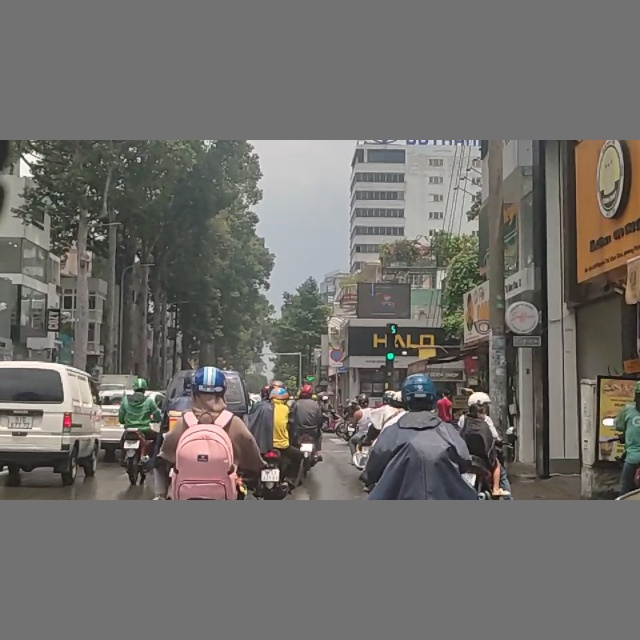P.131a: (329, 348, 345, 363)
